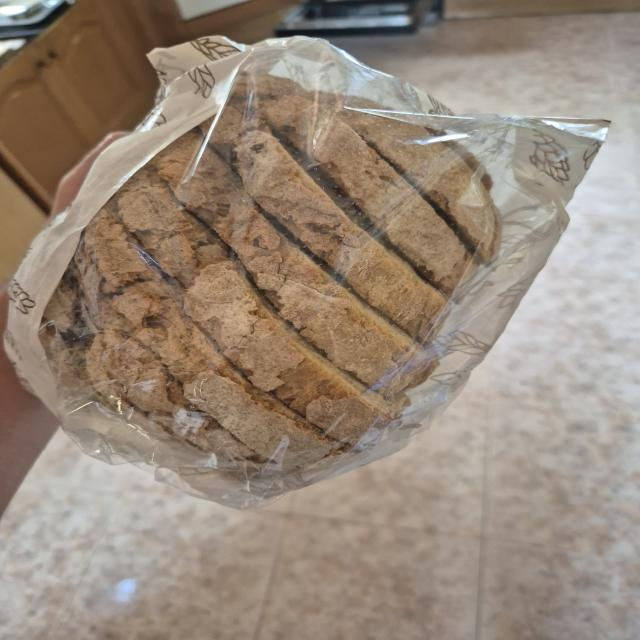pan: (66, 118, 498, 470)
